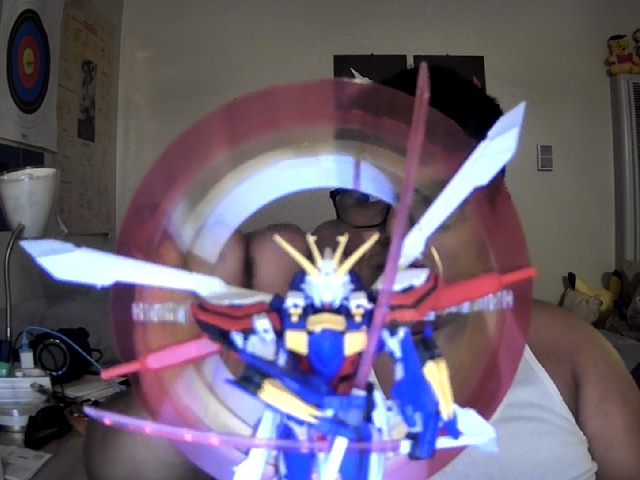God: (18, 78, 538, 480)
